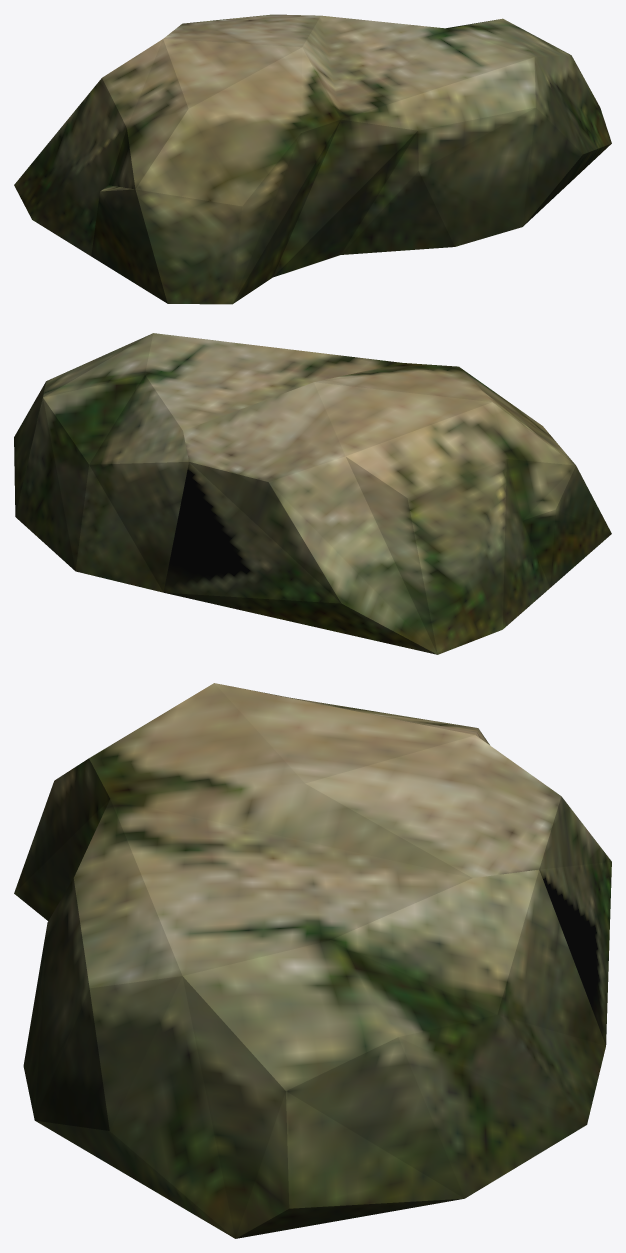
File: lianqizong_shitou25_st.FBX
3 renders of one model, top to bottom at view 1: azimuth 30°, elevation 25°; view 2: azimuth 150°, elevation 25°; view 3: azimuth 270°, elevation 25°, orthographic. The views are drawn at different scales.
Visible parts, largest first — view 1: lianqizong_shitou25_st_A; view 2: lianqizong_shitou25_st_A; view 3: lianqizong_shitou25_st_A.
Boxes of the visible parts, box(x1,y1,x2,y2) form: lianqizong_shitou25_st_A: box(14, 14, 611, 304); lianqizong_shitou25_st_A: box(14, 333, 611, 654); lianqizong_shitou25_st_A: box(14, 683, 611, 1238).
Size of the model in its own units: 28.48 by 7.88 by 18.13.
